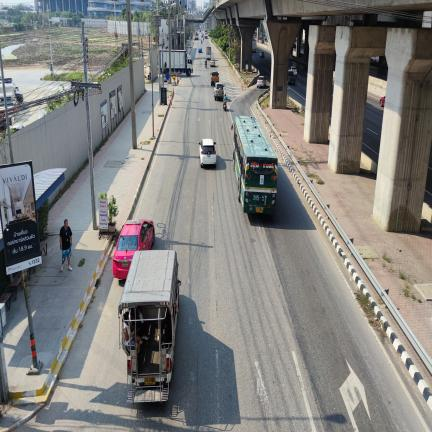bus: (233, 116, 277, 215)
car: (199, 139, 217, 168), (214, 83, 224, 100), (210, 58, 216, 67)
human: (59, 219, 72, 271), (223, 94, 227, 103), (205, 59, 207, 67)
motorbike: (223, 101, 227, 111), (205, 61, 207, 68), (201, 39, 203, 44)
pickup: (118, 249, 181, 402), (211, 71, 219, 86), (206, 46, 211, 60)
taxi: (113, 220, 155, 279), (198, 46, 202, 53)
truck: (171, 50, 193, 76), (159, 50, 169, 74), (204, 31, 208, 39), (195, 33, 198, 40)
